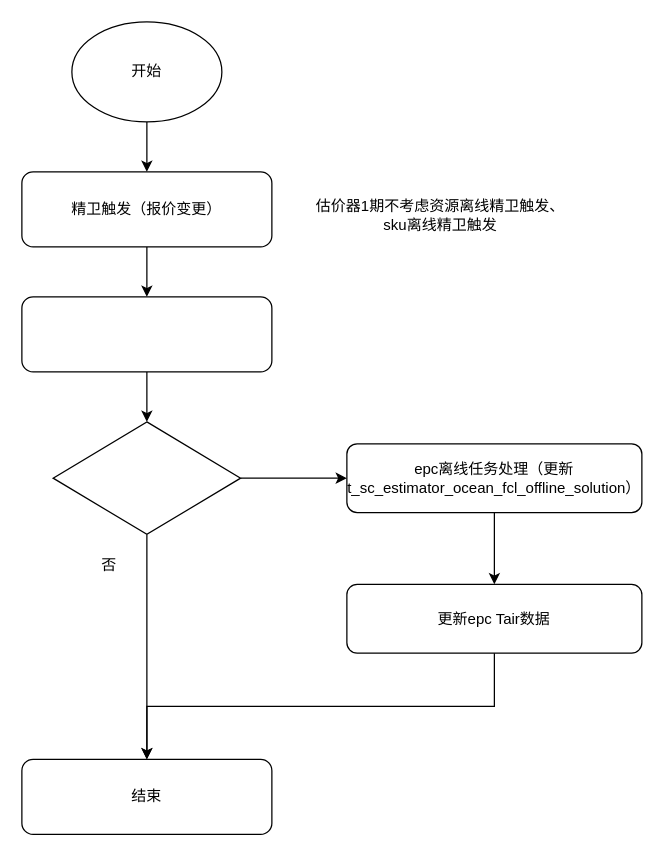
Image size: 664x856. Some labels were removed from this diagram. Each missing label, with the centre of its shape:
"是否在估价器白名单" belongs at pixel 146 477.
"离线任务处理（更新 t_sc_ocean_fcl_offline_solution）" belongs at pixel 146 334.
